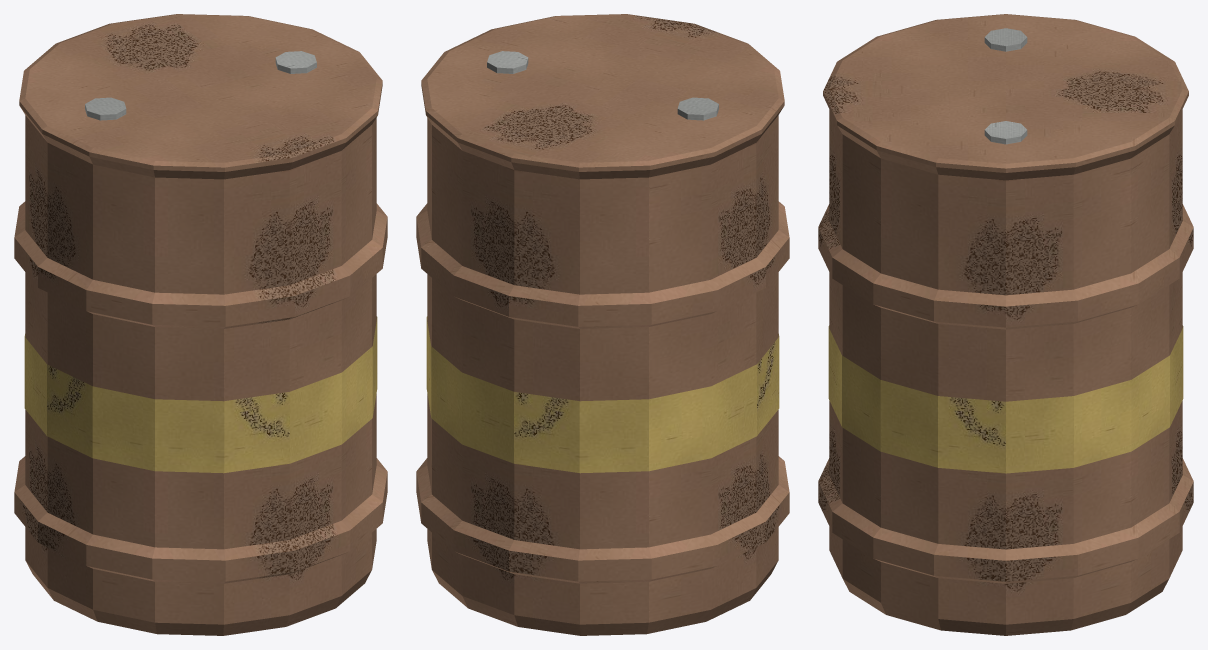
File: barrel.glb
3 views of the same model, side by side, from view 1: azimuth 30°, elevation 25°; view 2: azimuth 150°, elevation 25°; view 3: azimuth 270°, elevation 25° (orthographic).
Parts seen in each view (by area): view 1: NC_barrel; view 2: NC_barrel; view 3: NC_barrel.
Boxes of the visible parts, x1,y1,x2,y2 form: NC_barrel: (14,14,387,635); NC_barrel: (416,14,789,635); NC_barrel: (818,14,1193,635).
Size of the model in its own units: 0.616 by 0.87 by 0.616.
Materials: 3 (3 with a texture image).
